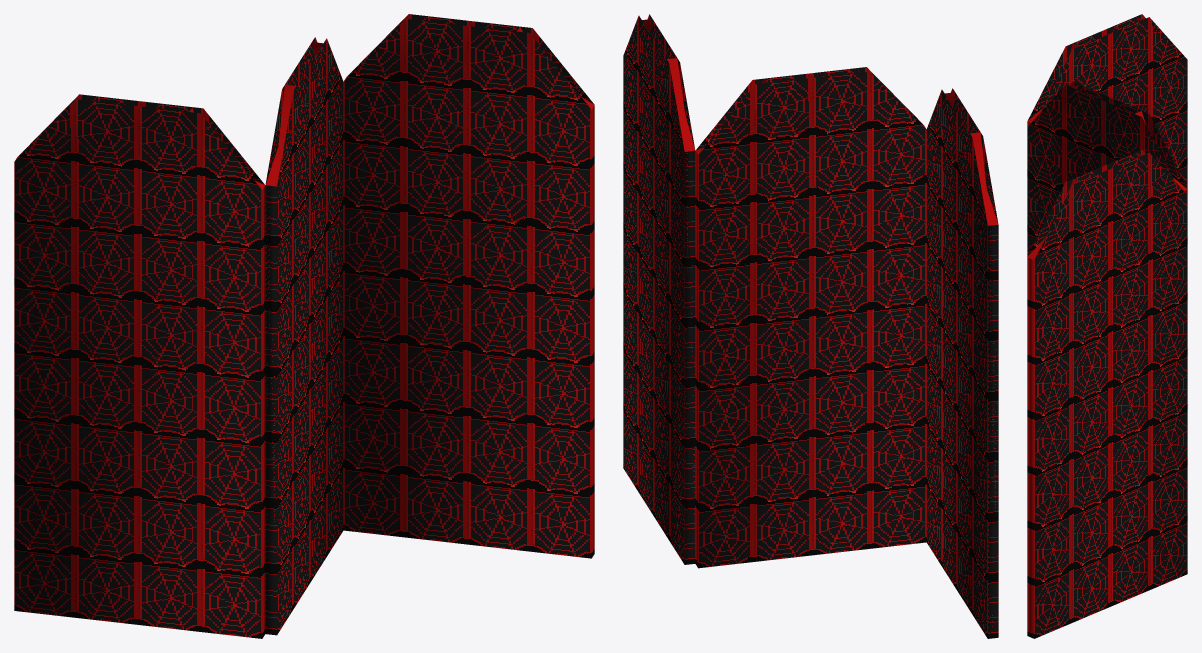
The model's file is 3166IMFY04_08.gltf.
3 views of the same model, side by side, from view 1: azimuth 30°, elevation 25°; view 2: azimuth 150°, elevation 25°; view 3: azimuth 270°, elevation 25° (orthographic). The views are drawn at different scales.
Visible parts, largest first — view 1: 3166IMFY04_08; view 2: 3166IMFY04_08; view 3: 3166IMFY04_08.
Boxes of the visible parts, bbox=[...] form: 3166IMFY04_08: bbox=[14, 14, 594, 638]; 3166IMFY04_08: bbox=[623, 14, 998, 638]; 3166IMFY04_08: bbox=[1027, 14, 1187, 638].
Size of the model in its own units: 1.88 by 1.89 by 0.6279.
1 material, 1 textured.
